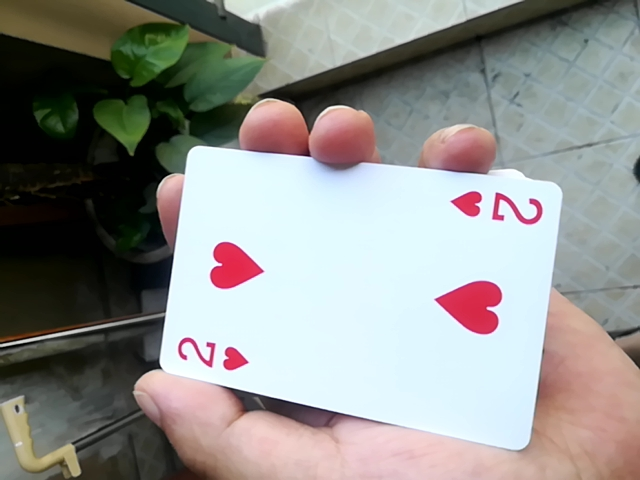hx 2: (149, 139, 561, 448)
